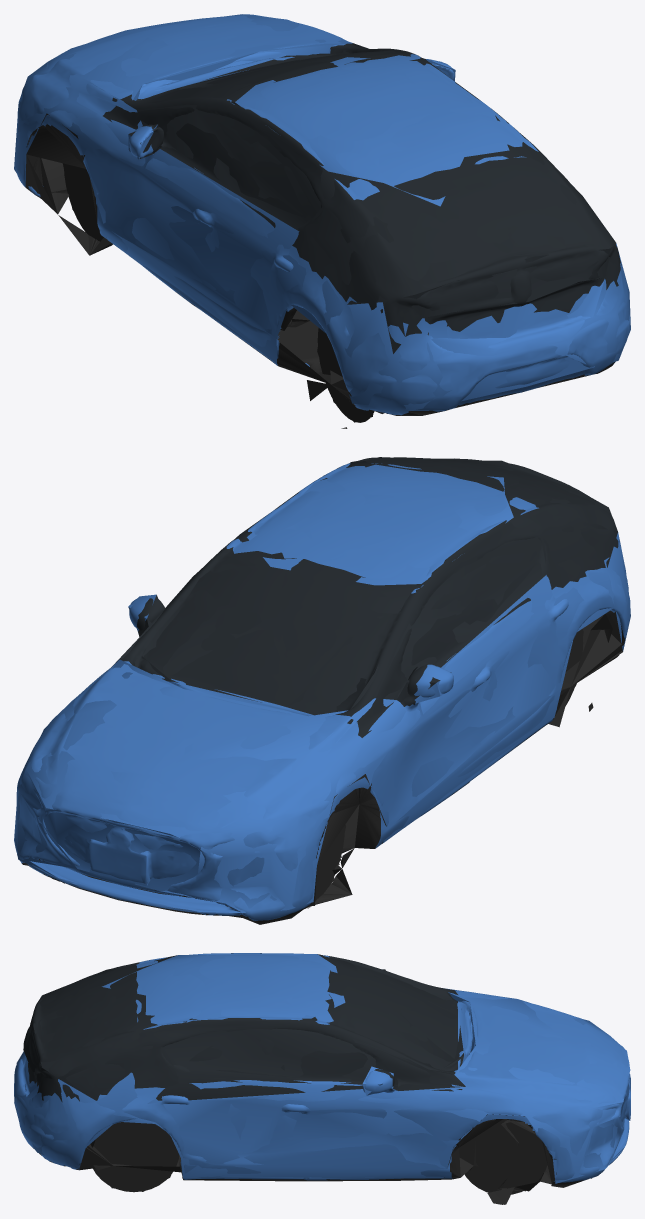
File: mazda-mazda3.glb
3 renders of one model, top to bottom at view 1: azimuth 30°, elevation 25°; view 2: azimuth 150°, elevation 25°; view 3: azimuth 270°, elevation 25°, orthographic. The views are drawn at different scales.
Parts seen in each view (by area): view 1: body, far; view 2: body, far; view 3: body, far.
Part boxes in pixels (x1,y1,x2,y2): body: [15, 14, 630, 428]; far: [14, 14, 630, 422]; body: [14, 457, 630, 924]; far: [14, 457, 630, 913]; body: [14, 953, 630, 1204]; far: [14, 954, 630, 1192].
Bounding box in the file's own units: 2.08 × 1.47 × 4.65.
